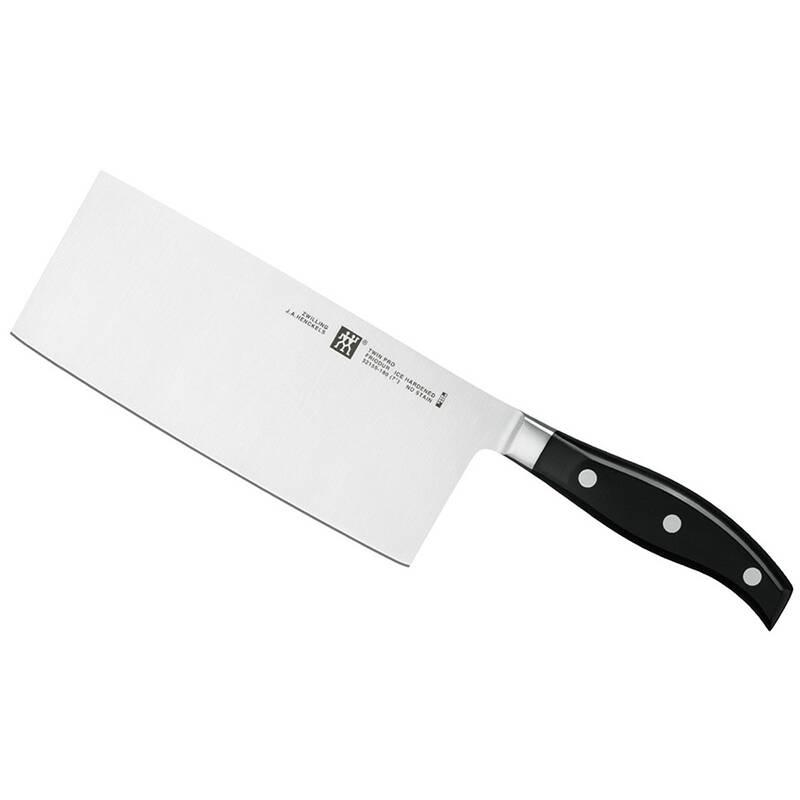knife: (11, 140, 791, 706)
